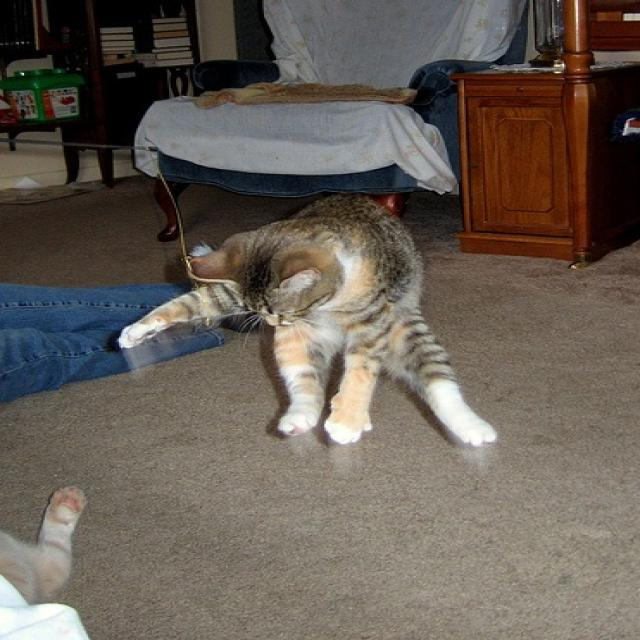cat: (124, 192, 497, 445)
chair: (140, 0, 533, 241)
